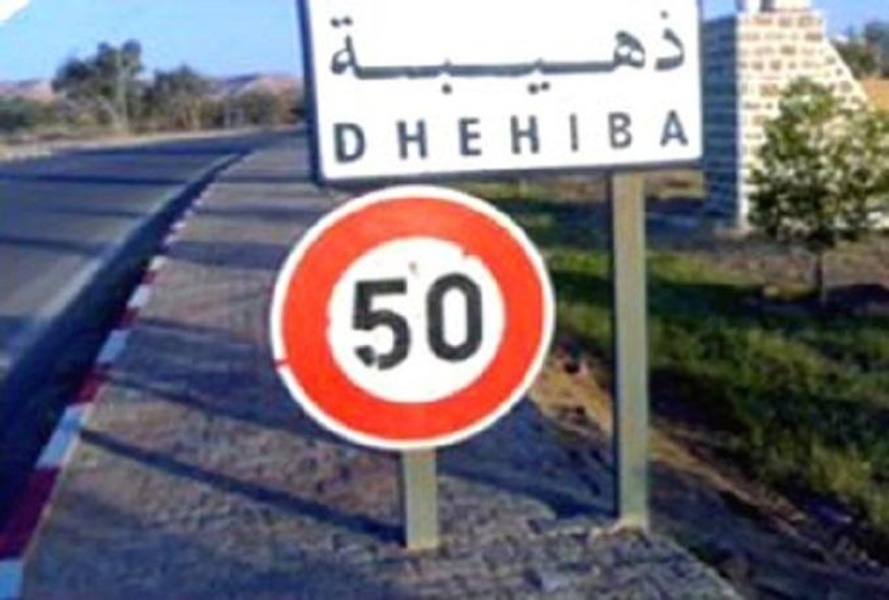text: (353, 274, 368, 372), (369, 274, 384, 372), (385, 274, 400, 372), (401, 274, 416, 372), (417, 274, 432, 372), (433, 274, 448, 372), (449, 274, 464, 372), (465, 274, 480, 372), (337, 10, 352, 96), (353, 10, 368, 96), (369, 10, 384, 96), (385, 10, 400, 96), (401, 10, 416, 96), (417, 10, 432, 96), (433, 10, 448, 96), (449, 10, 464, 96), (465, 10, 480, 96), (481, 10, 496, 96), (497, 10, 512, 96), (513, 10, 528, 96), (529, 10, 544, 96), (545, 10, 560, 96), (561, 10, 576, 96), (577, 10, 592, 96), (593, 10, 608, 96), (609, 10, 624, 96), (625, 10, 640, 96), (641, 10, 656, 96), (657, 10, 672, 96), (673, 10, 688, 96), (337, 105, 352, 167), (353, 105, 368, 167), (369, 105, 384, 167), (385, 105, 400, 167), (401, 105, 416, 167), (417, 105, 432, 167), (433, 105, 448, 167), (449, 105, 464, 167), (465, 105, 480, 167), (481, 105, 496, 167), (497, 105, 512, 167), (513, 105, 528, 167), (529, 105, 544, 167), (545, 105, 560, 167), (561, 105, 576, 167), (577, 105, 592, 167), (593, 105, 608, 167), (609, 105, 624, 167), (625, 105, 640, 167), (641, 105, 656, 167), (657, 105, 672, 167), (673, 105, 688, 167), (327, 10, 336, 96), (481, 274, 486, 372), (330, 105, 336, 167), (689, 105, 691, 167)
